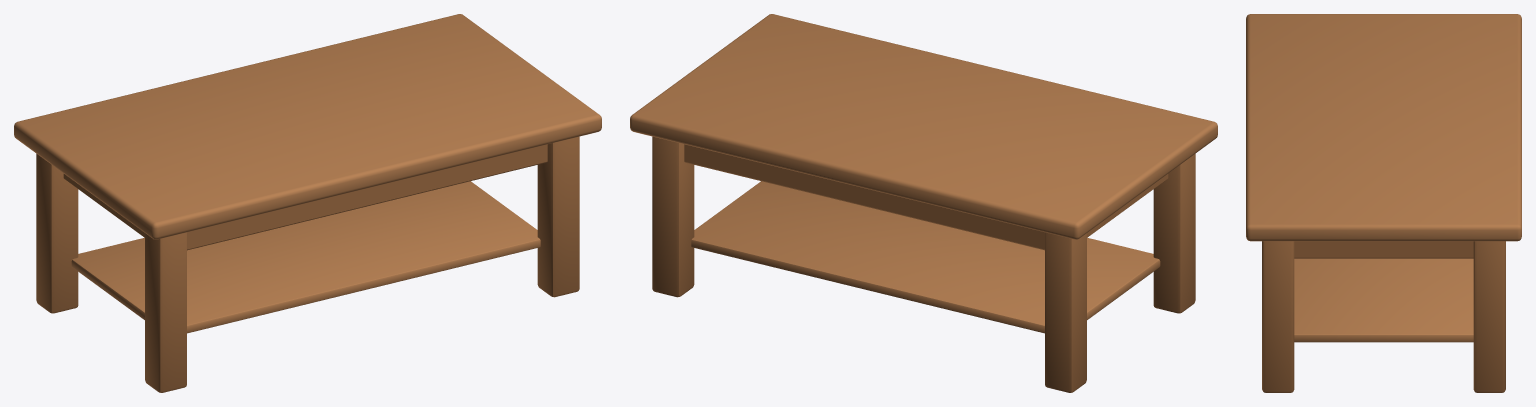
Rendered from CoffeeTable.fbx.
The picture shows the model from 3 angles, left to right: view 1: azimuth 30°, elevation 25°; view 2: azimuth 150°, elevation 25°; view 3: azimuth 270°, elevation 25°; orthographic projection. The views are drawn at different scales.
Parts seen in each view (by area): view 1: CoffeeTable_Mesh; view 2: CoffeeTable_Mesh; view 3: CoffeeTable_Mesh.
Part boxes in pixels (box(x1,y1,x2,y2)): CoffeeTable_Mesh: box(14, 14, 601, 392); CoffeeTable_Mesh: box(630, 14, 1217, 392); CoffeeTable_Mesh: box(1246, 14, 1521, 392).
Bounding box in the file's own units: 1.1 × 0.42 × 0.6.
